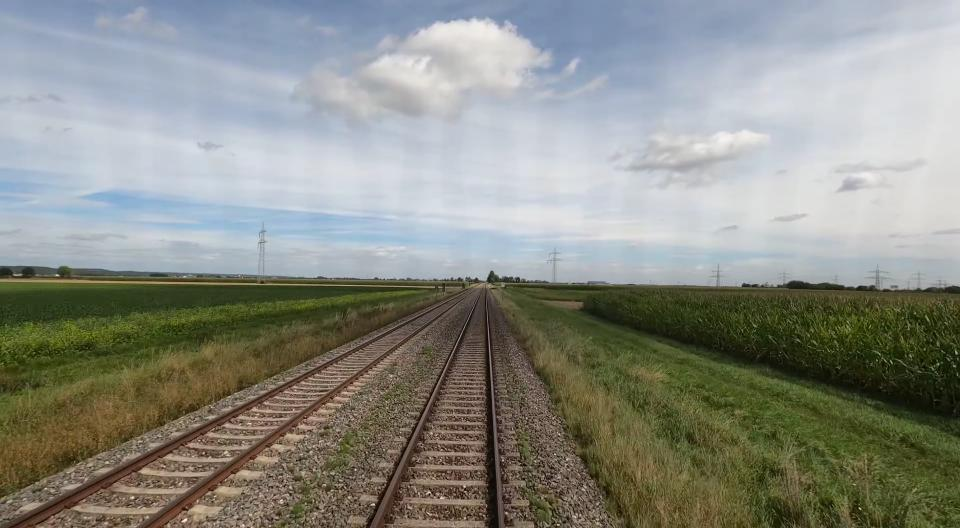Plant: (322, 432, 358, 470), (530, 496, 552, 528), (518, 430, 532, 465), (290, 499, 313, 519), (296, 482, 314, 497), (420, 347, 434, 357)
